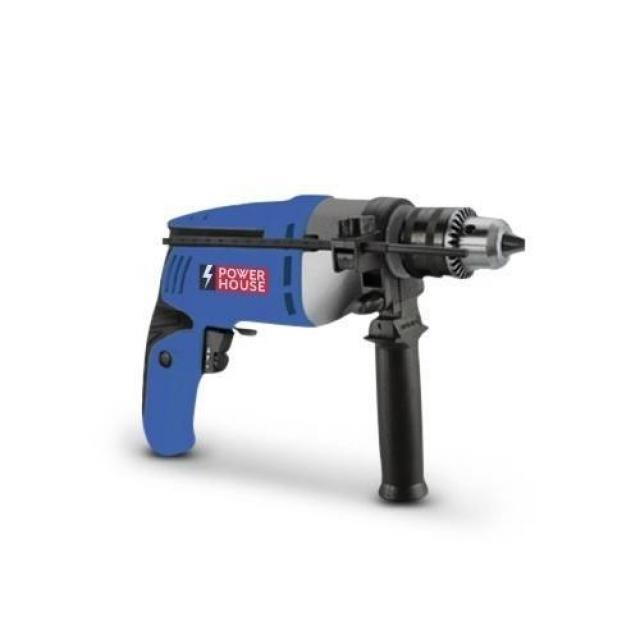drill: (142, 196, 524, 503)
